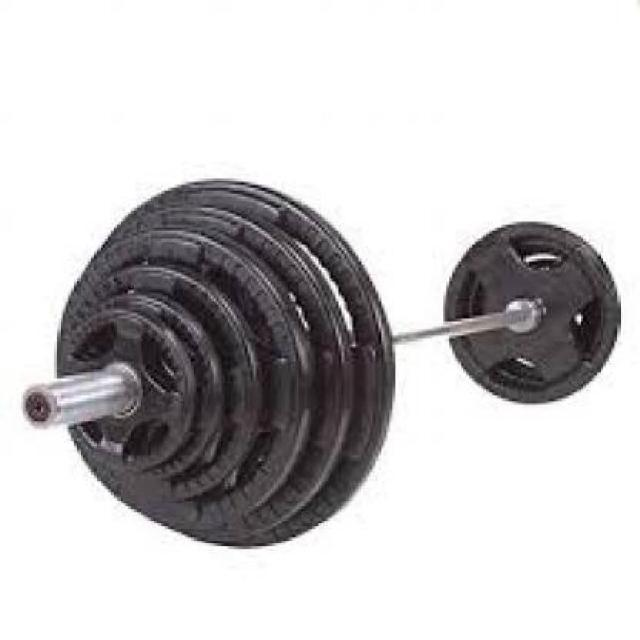Barbell: (16, 378, 69, 438)
